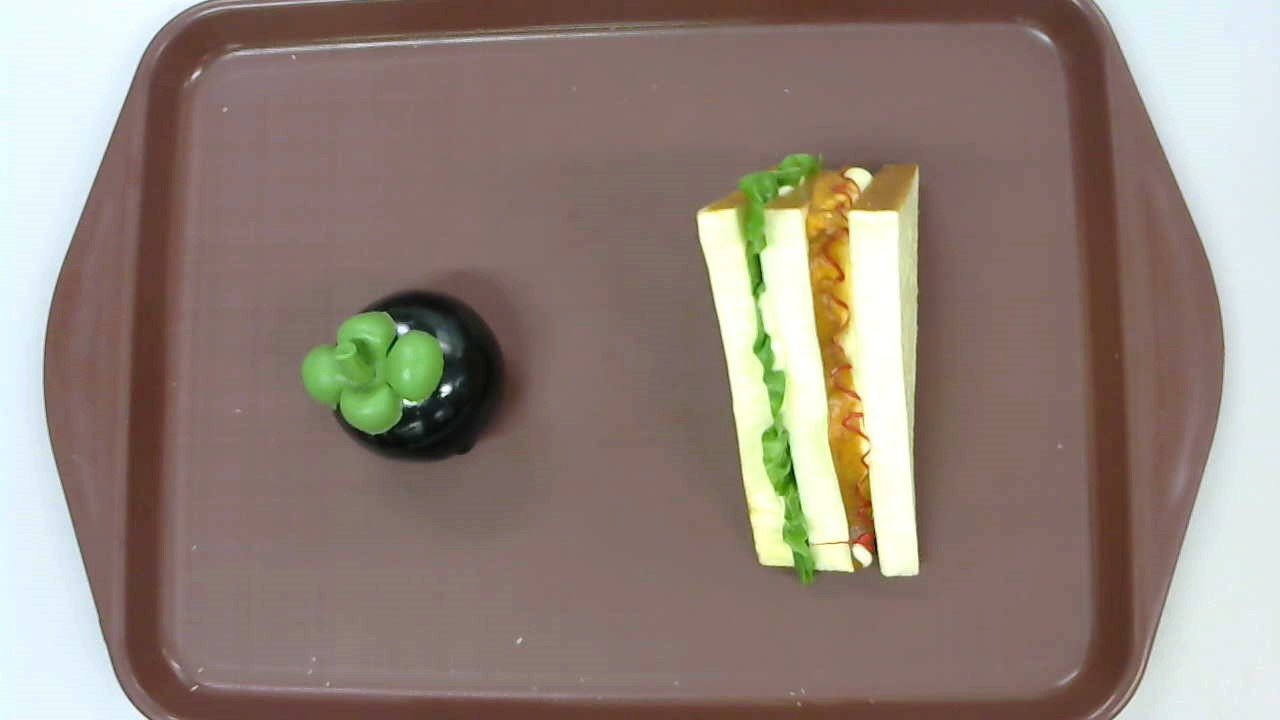mangosteen: (300, 291, 506, 462)
sandwich: (696, 152, 920, 588)
